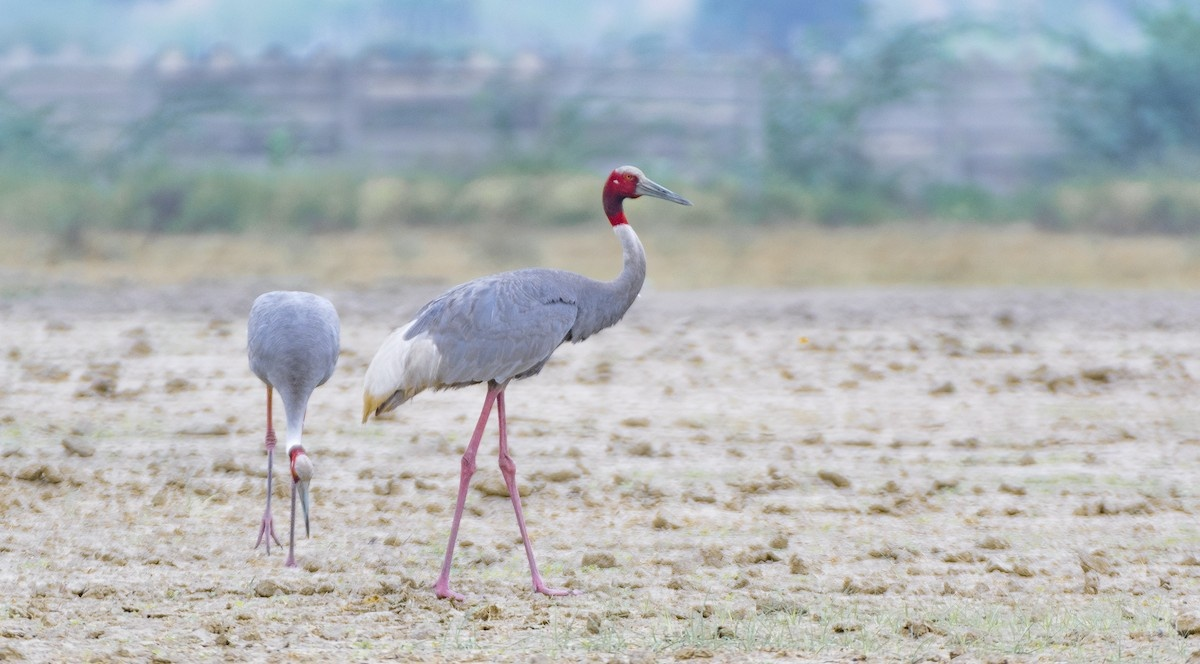crane: (379, 155, 703, 611), (238, 292, 350, 564)
